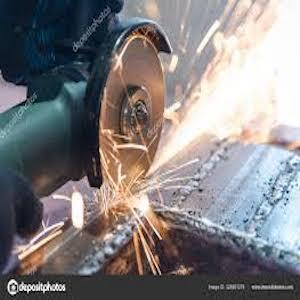heat: (113, 28, 281, 207)
